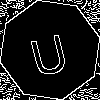U: (25, 25, 72, 78)
